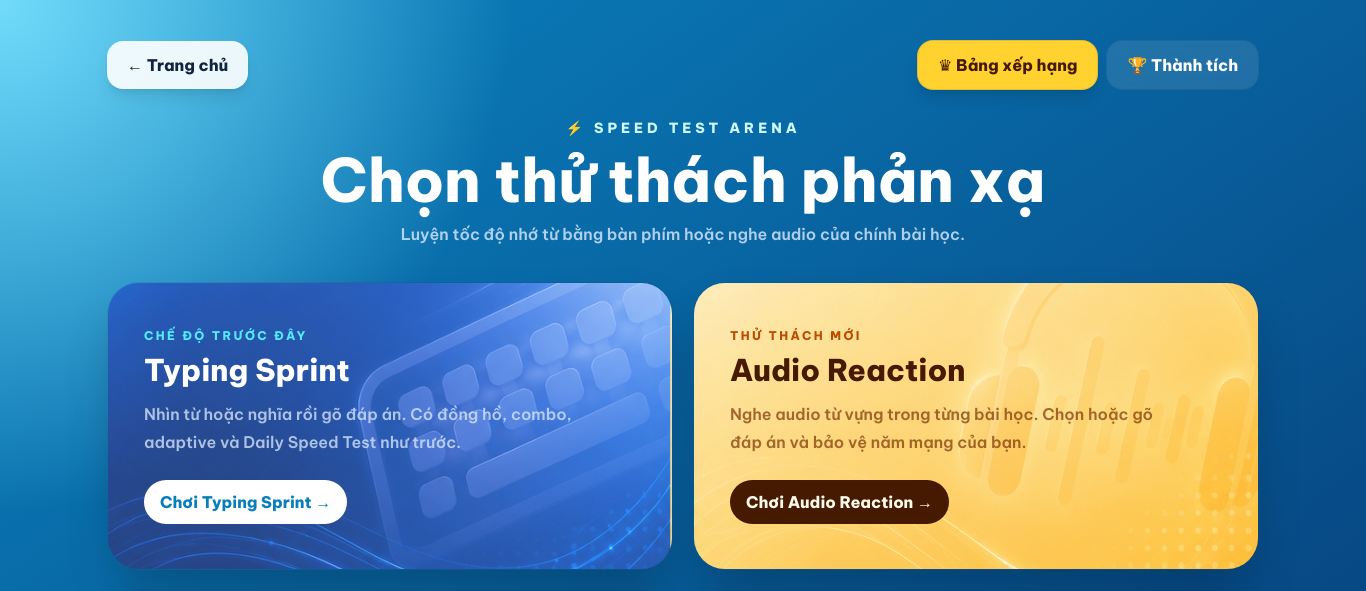
Test: SpeedTestArena › liệt kê lesson Audio Reaction từ Arena tổng
Click the button named "Chơi Audio Reaction": click(976, 426) left=693, top=282, right=1259, bottom=570
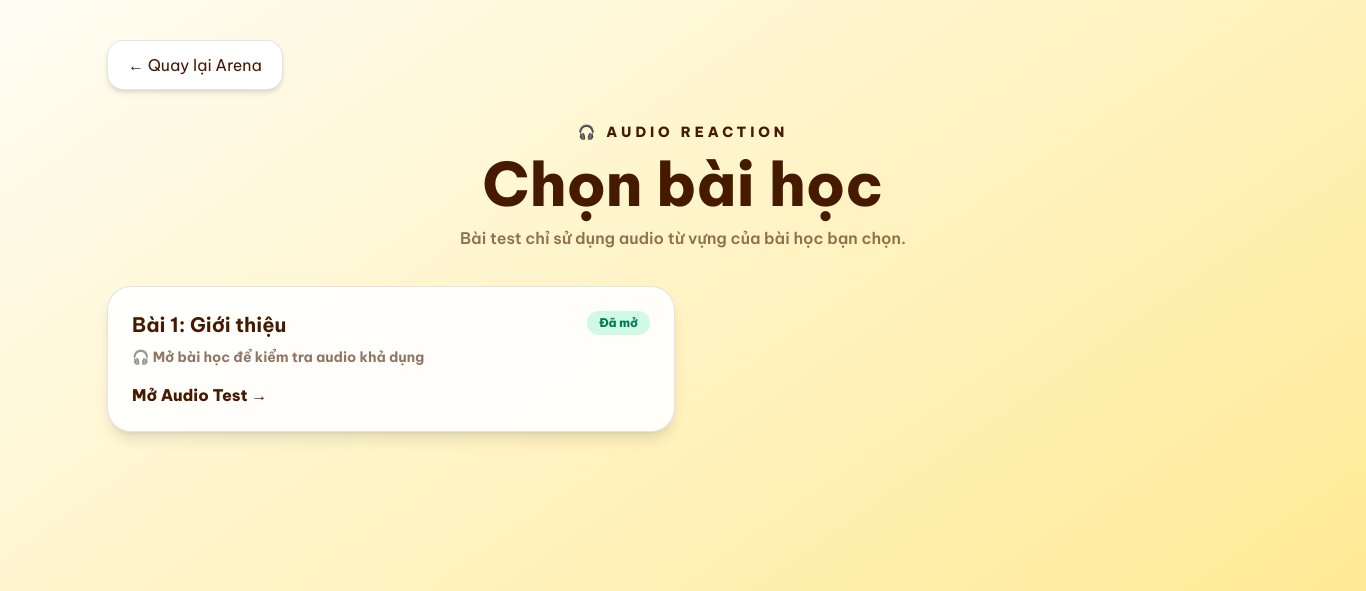
Expected: the heading "Chọn thử thách phản xạ" is gone
Expected: the heading "Chọn bài học" is shown, left=482, top=146, right=883, bottom=222
